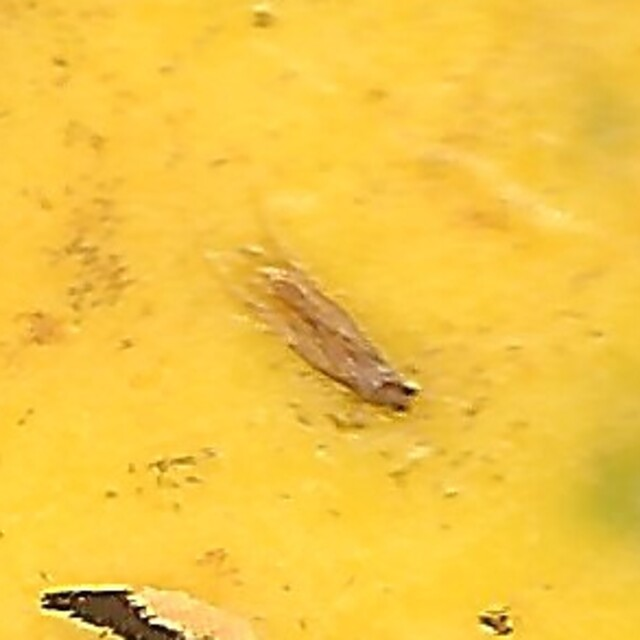Trichoptera: (218, 224, 422, 416)
